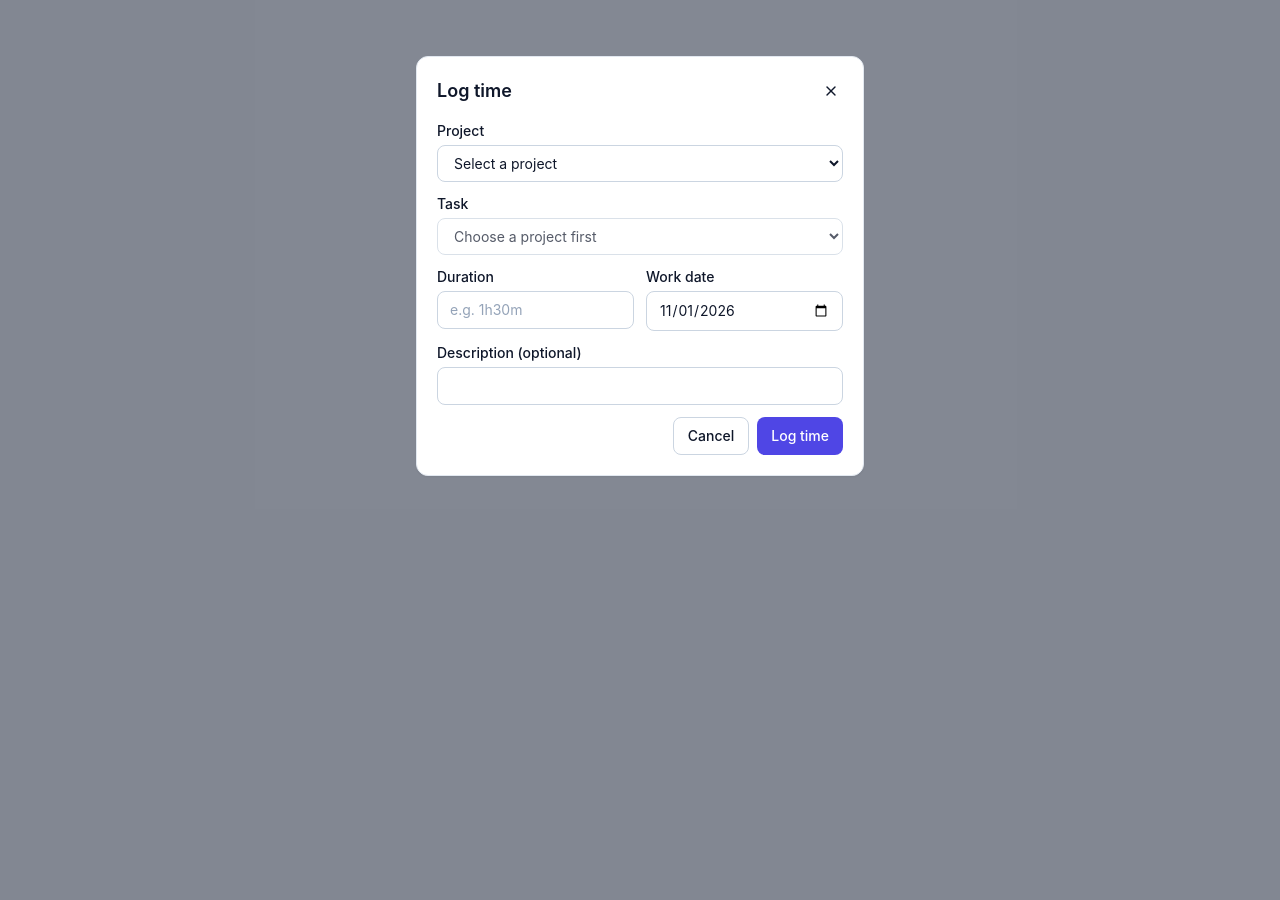
it: LogTimeModal - manual entry › shows the server error inside the dialog when saving fails
Select "Website (WEB)" in the dropdown labelled "Project" at [640, 164], box [437,145,843,182]
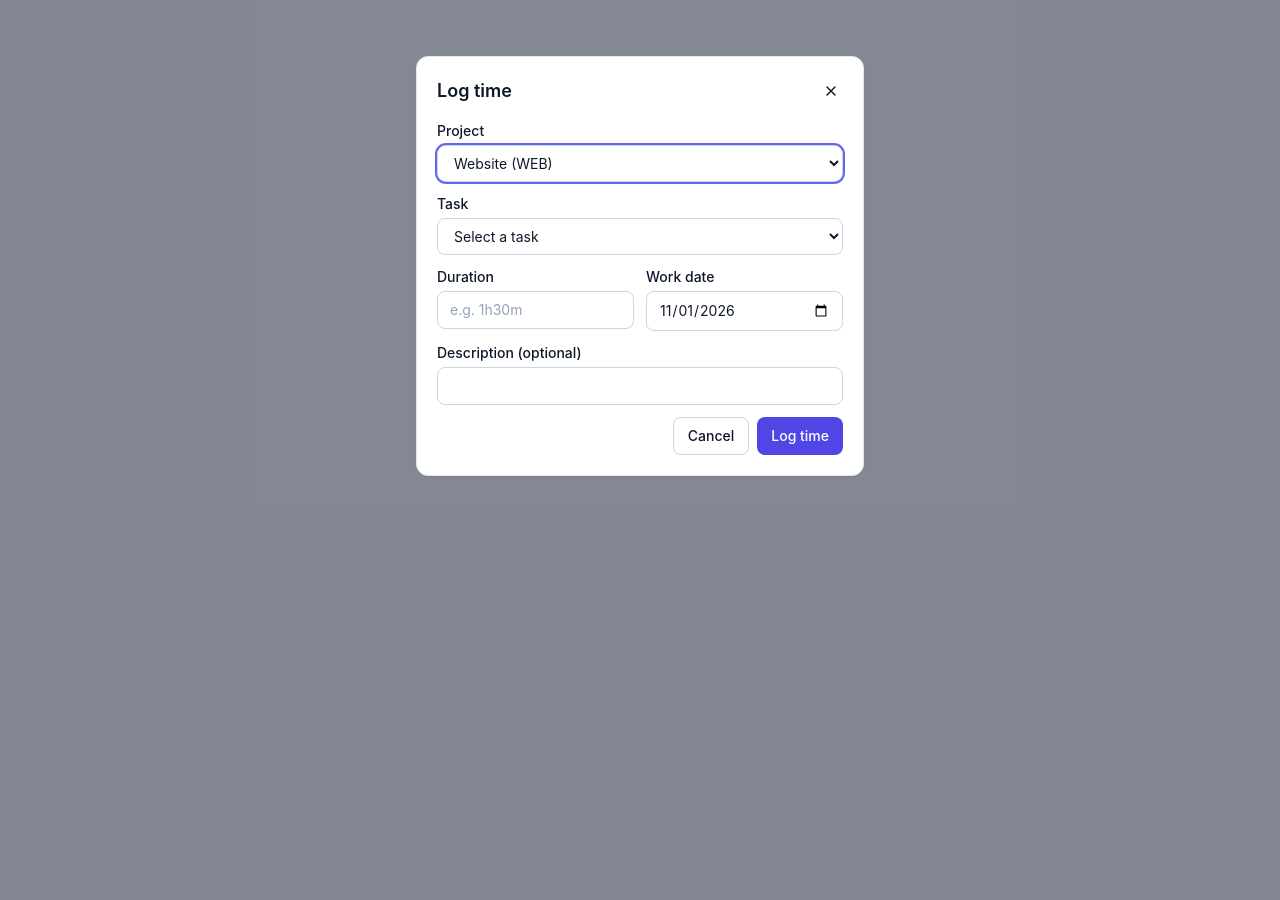
Select "WEB-1 · Header" in the dropdown labelled "Task" at [640, 236], box [437,218,843,255]
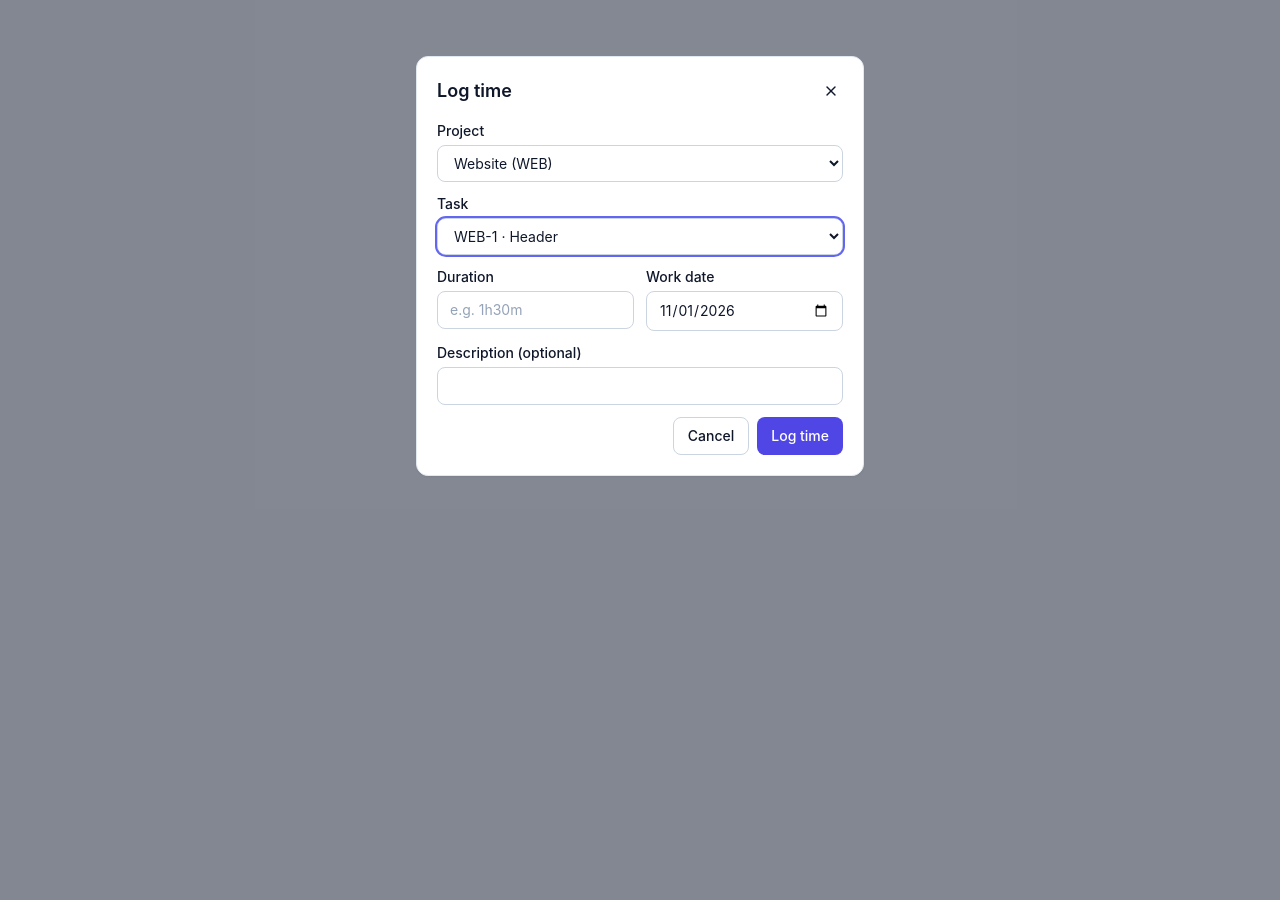
Type "5h" into the field labelled "Duration" at [536, 310], box [437,291,634,329]
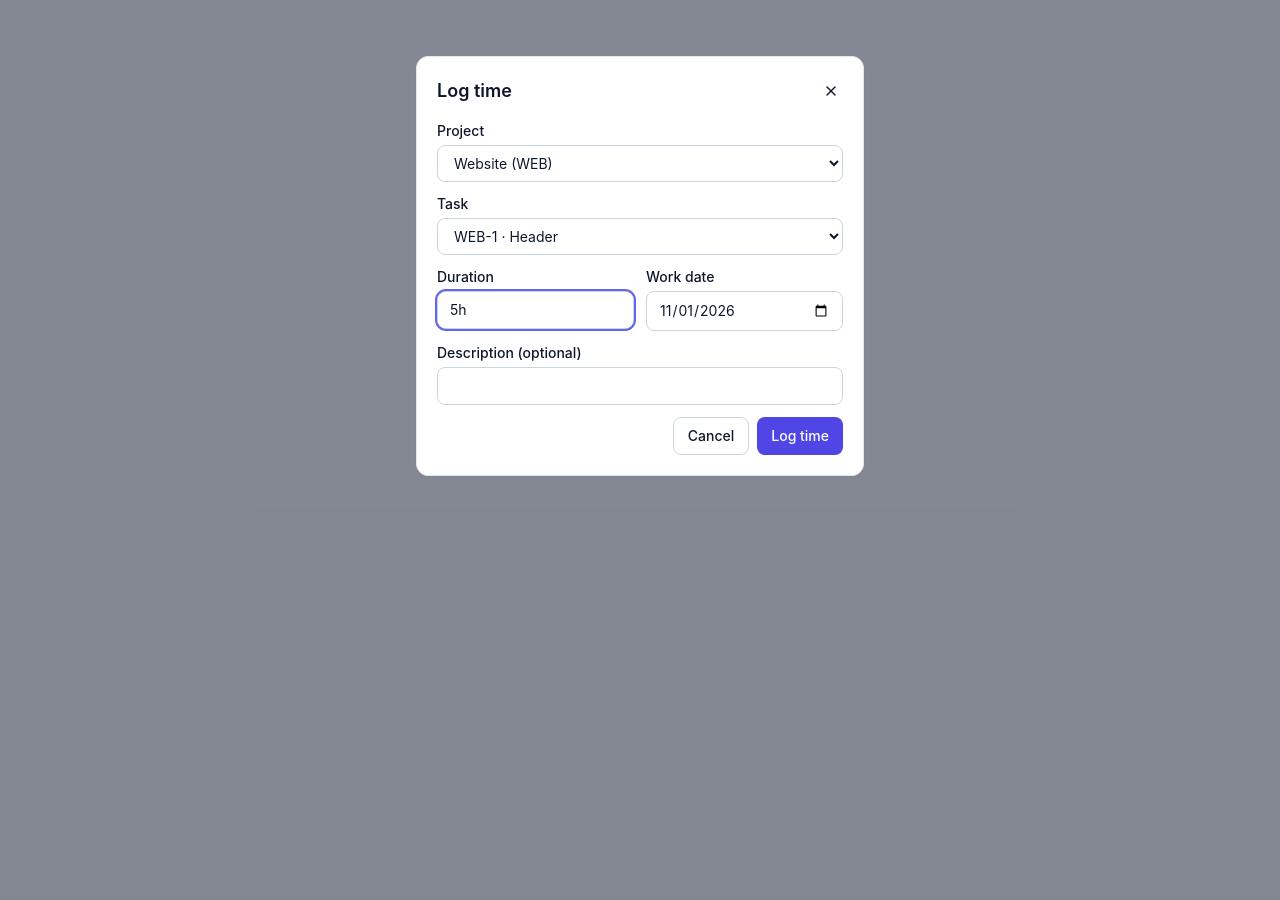
Click the button "Log time" at [800, 436], box [757,417,843,455]
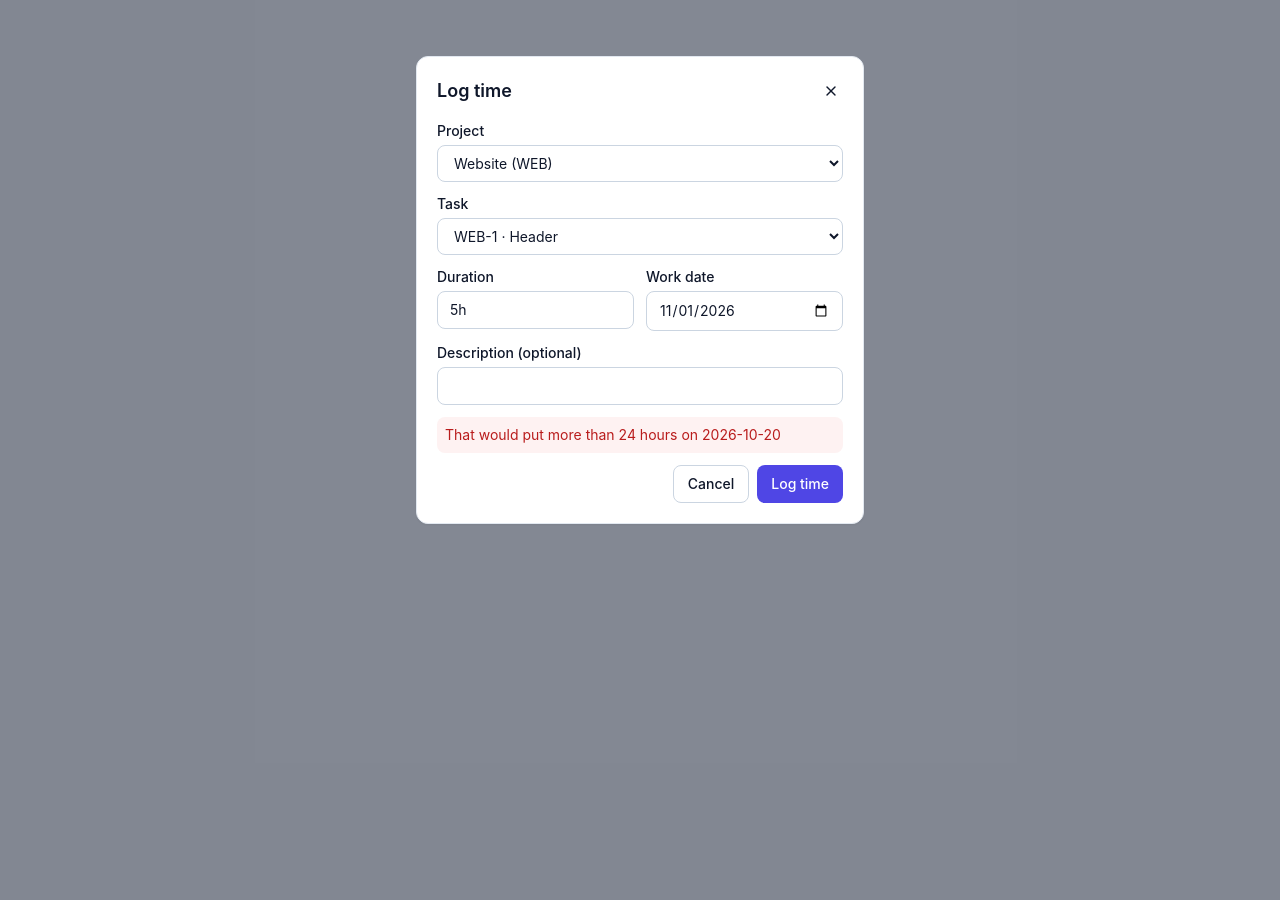
expect the message shows "more than 24 hours": met, box [445,426,781,443]
